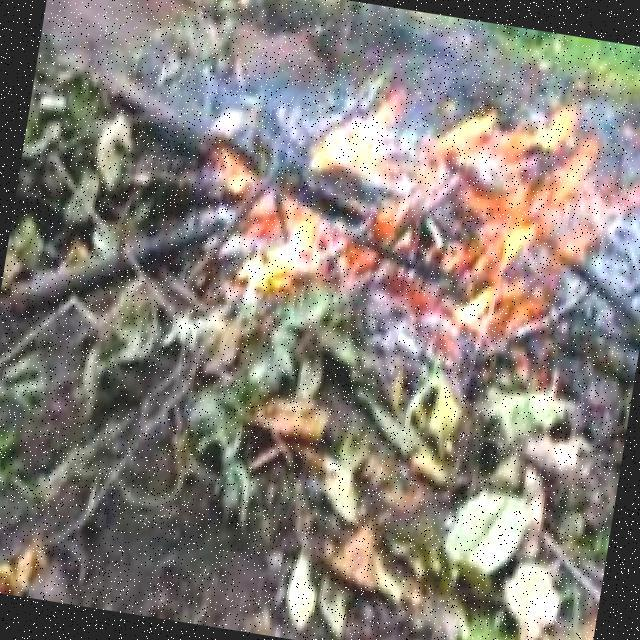Fire: (233, 60, 619, 325)
